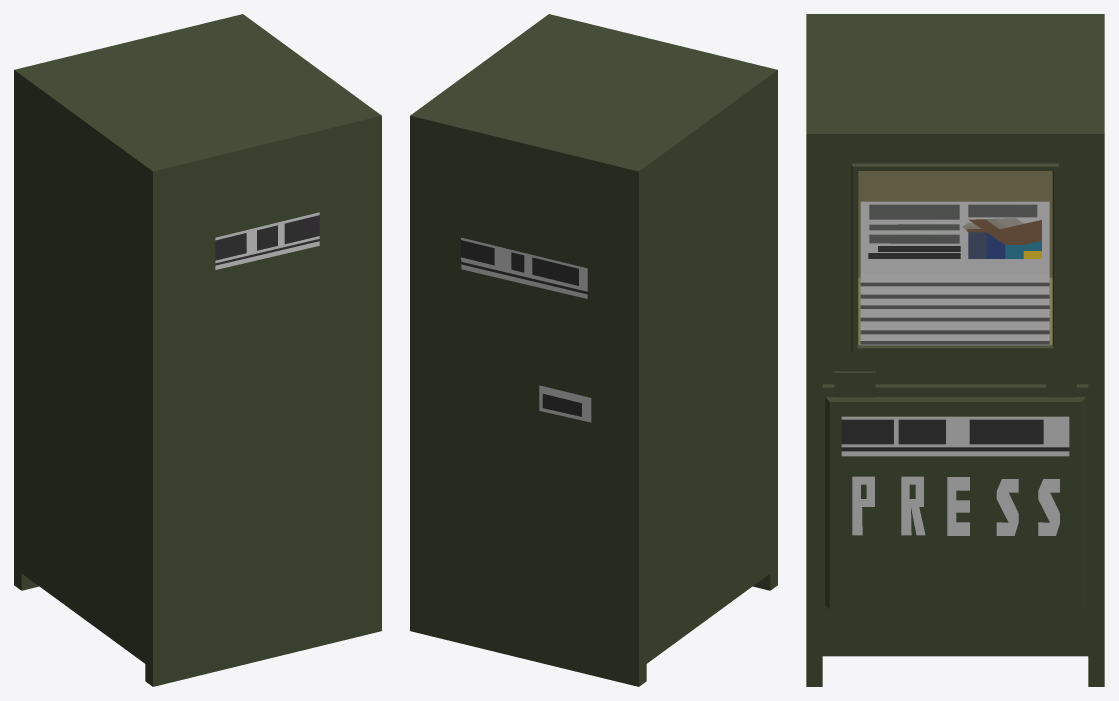
Rendered from SM_press_box_3.gltf.
The picture shows the model from 3 angles, left to right: view 1: azimuth 30°, elevation 25°; view 2: azimuth 150°, elevation 25°; view 3: azimuth 270°, elevation 25°; orthographic projection. The views are drawn at different scales.
Parts seen in each view (by area): view 1: SM_press_box_3; view 2: SM_press_box_3; view 3: SM_press_box_3.
Boxes of the visible parts, x1=… form: SM_press_box_3: x1=14, y1=14, x2=381, y2=686; SM_press_box_3: x1=410, y1=14, x2=777, y2=686; SM_press_box_3: x1=806, y1=14, x2=1104, y2=686.
Size of the model in its own units: 0.6565 by 1.41 by 0.6908.
Materials: 2 (1 with a texture image).
